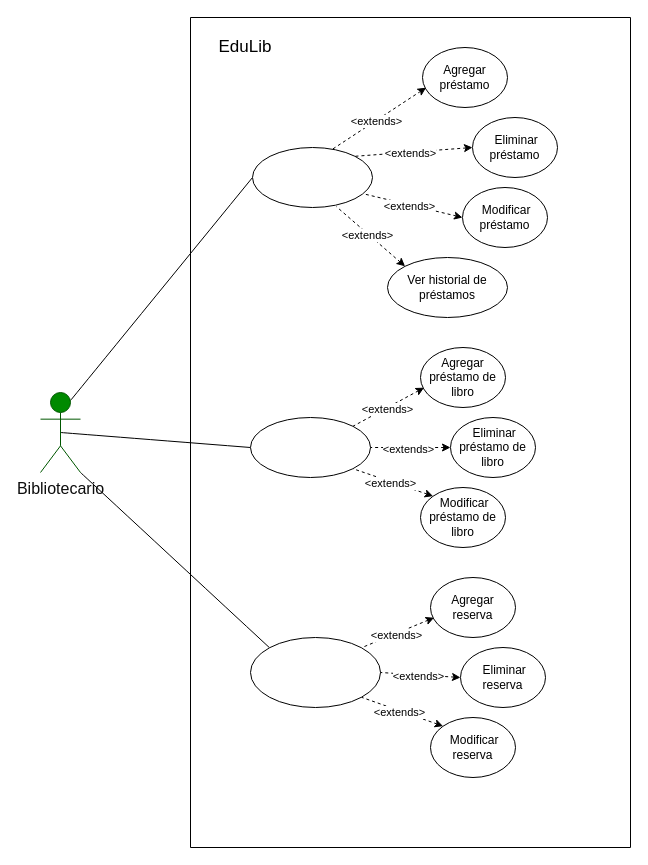
Image size: 648x865. Some labels were removed from this diagram. The shapes that lost their labels are listed below. From the top down, each one's centre as x and y in pixels, then its label:
point (312, 177): Listar préstamos
point (310, 447): Listar préstamos de libros
point (315, 672): Mostrar calendario de reservas
